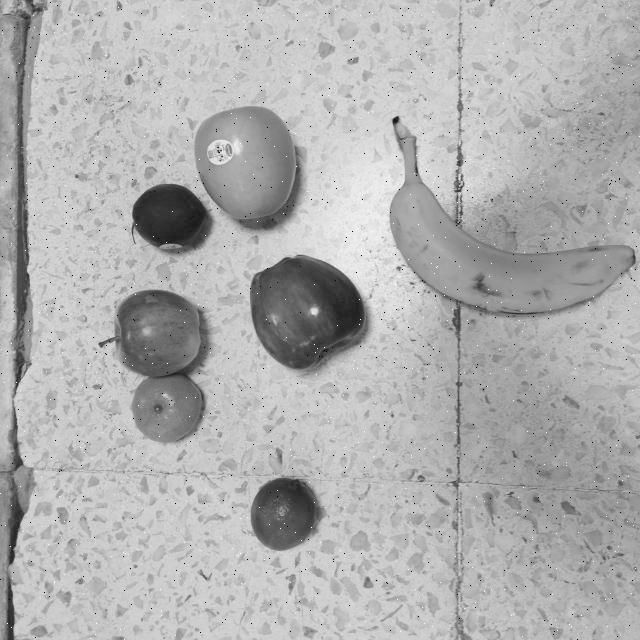Apel Gala: (105, 274, 218, 382)
Apel Granny Smith: (184, 96, 308, 224)
Jeruk Mandarin: (114, 366, 222, 444)
Lemon: (234, 478, 334, 551)
Persik: (121, 166, 226, 260)
Pisang: (378, 110, 640, 328)
